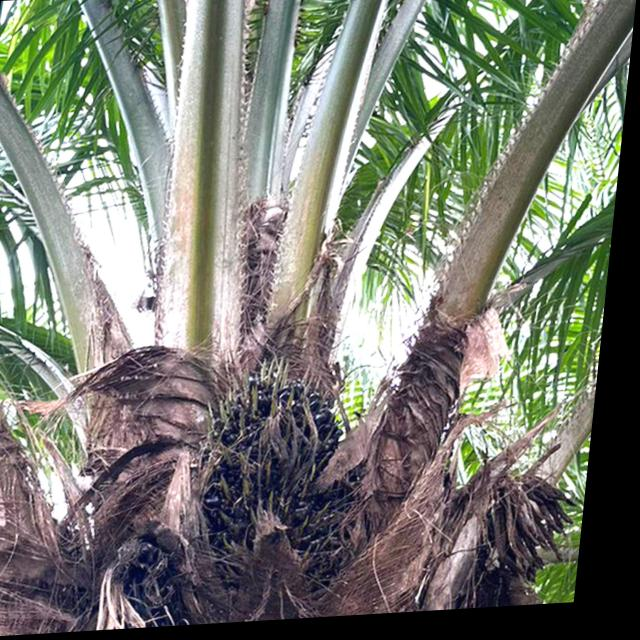unripe: (109, 346, 400, 633)
